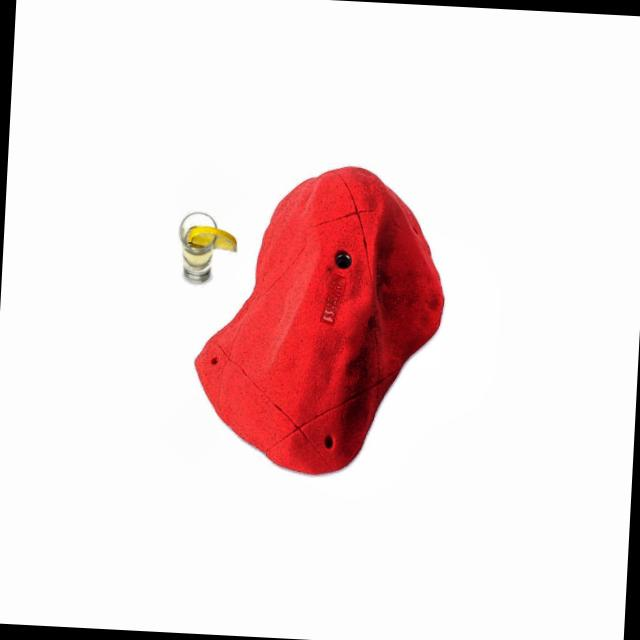Hold: (175, 149, 467, 505)
